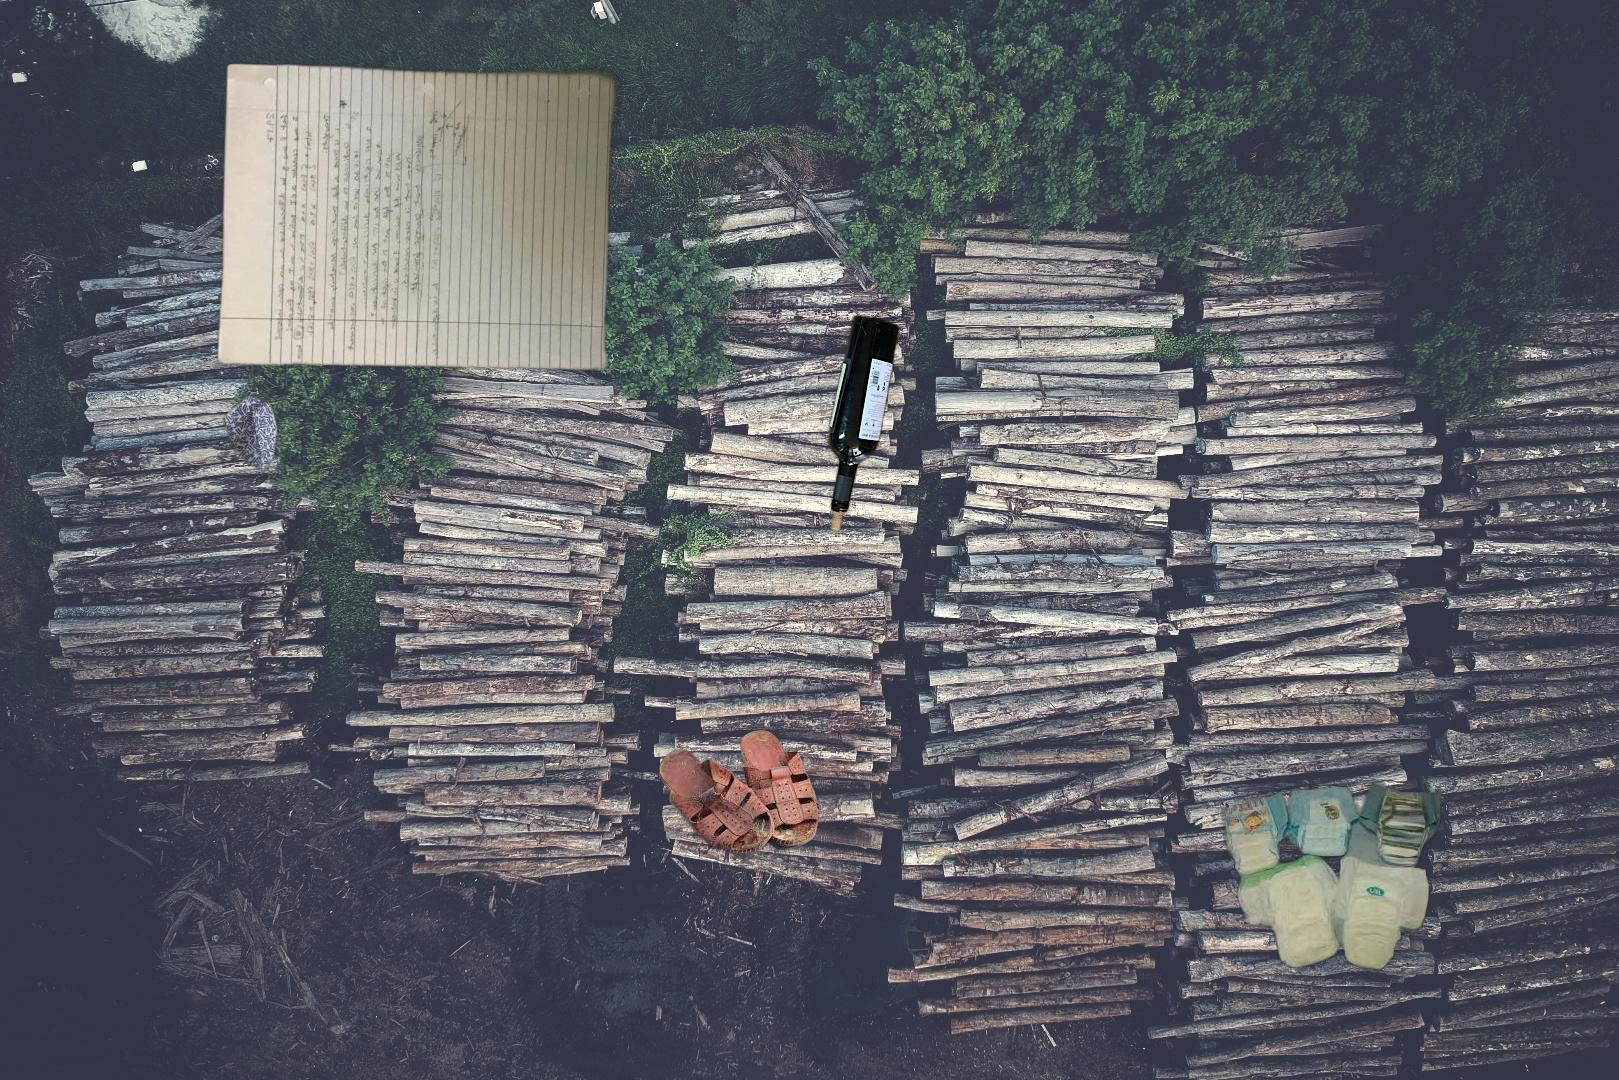glass: (794, 310, 1166, 818)
paper: (213, 45, 632, 375), (218, 378, 282, 485)
shoes: (656, 727, 822, 857)
trash: (1218, 777, 1443, 973)
